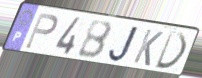4: (54, 17, 81, 57)
B: (76, 20, 113, 61)
D: (153, 30, 190, 72)
J: (107, 25, 140, 63)
K: (131, 28, 165, 69)
P: (23, 12, 59, 51)
